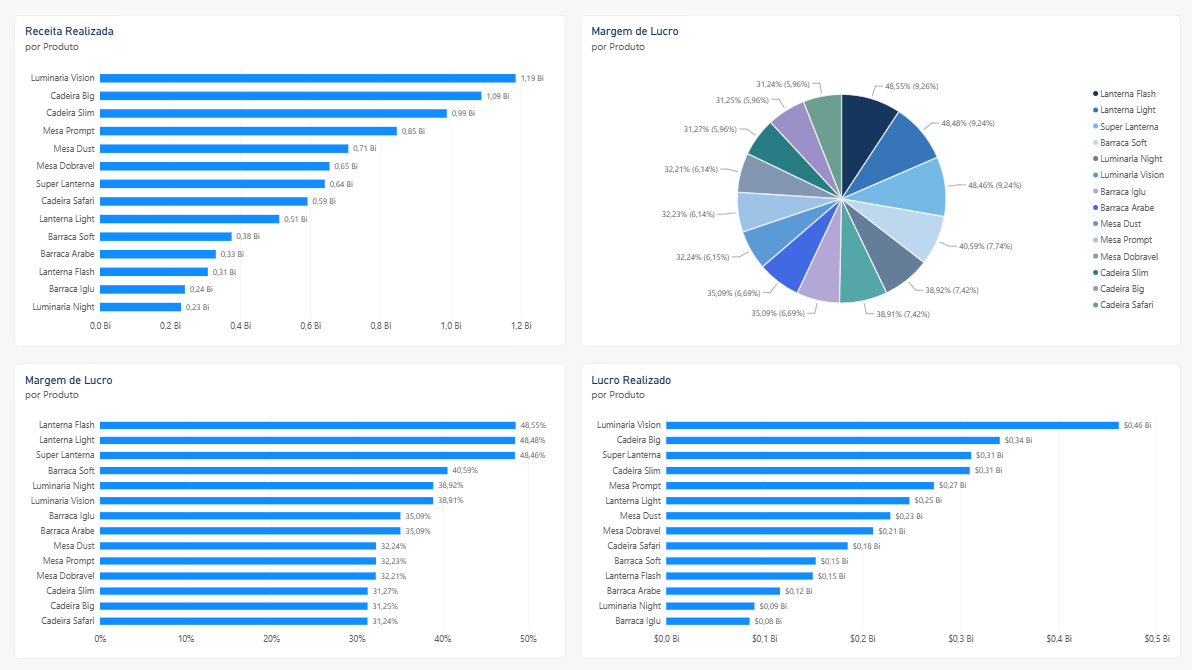

The dashboard page shown, as its layout file describes it:
{"tool":"powerbi","page":{"name":"Análise de Produtos","canvas":[1920,1080],"ordinal":1},"visuals":[{"type":"clusteredBarChart","fields":{"Category":["Produto.Produto"],"Y":["Venda.Receita Realizada"]},"box":[28,24,882,530],"z":0},{"type":"clusteredBarChart","fields":{"Category":["Produto.Produto"],"Y":["Venda.Lucro Realizado"]},"box":[934,582,960,472],"z":1},{"type":"clusteredBarChart","fields":{"Category":["Produto.Produto"],"Y":["Venda.Margem de Lucro"]},"box":[28,582,882,472],"z":2},{"type":"pieChart","fields":{"Category":["Produto.Produto"],"Y":["Venda.Margem de Lucro"]},"box":[934,24,960,530],"z":3}]}

Visuals, with their boxes in screenshot pixels (x1, y1, x2, y2), scaled from the page's 1920x1080 canvas onto the 1192x670 screenshot:
clusteredBarChart - Produto.Produto x Venda.Receita Realizada: x1=17, y1=15, x2=565, y2=344
clusteredBarChart - Produto.Produto x Venda.Lucro Realizado: x1=580, y1=361, x2=1176, y2=654
clusteredBarChart - Produto.Produto x Venda.Margem de Lucro: x1=17, y1=361, x2=565, y2=654
pieChart - Produto.Produto x Venda.Margem de Lucro: x1=580, y1=15, x2=1176, y2=344
